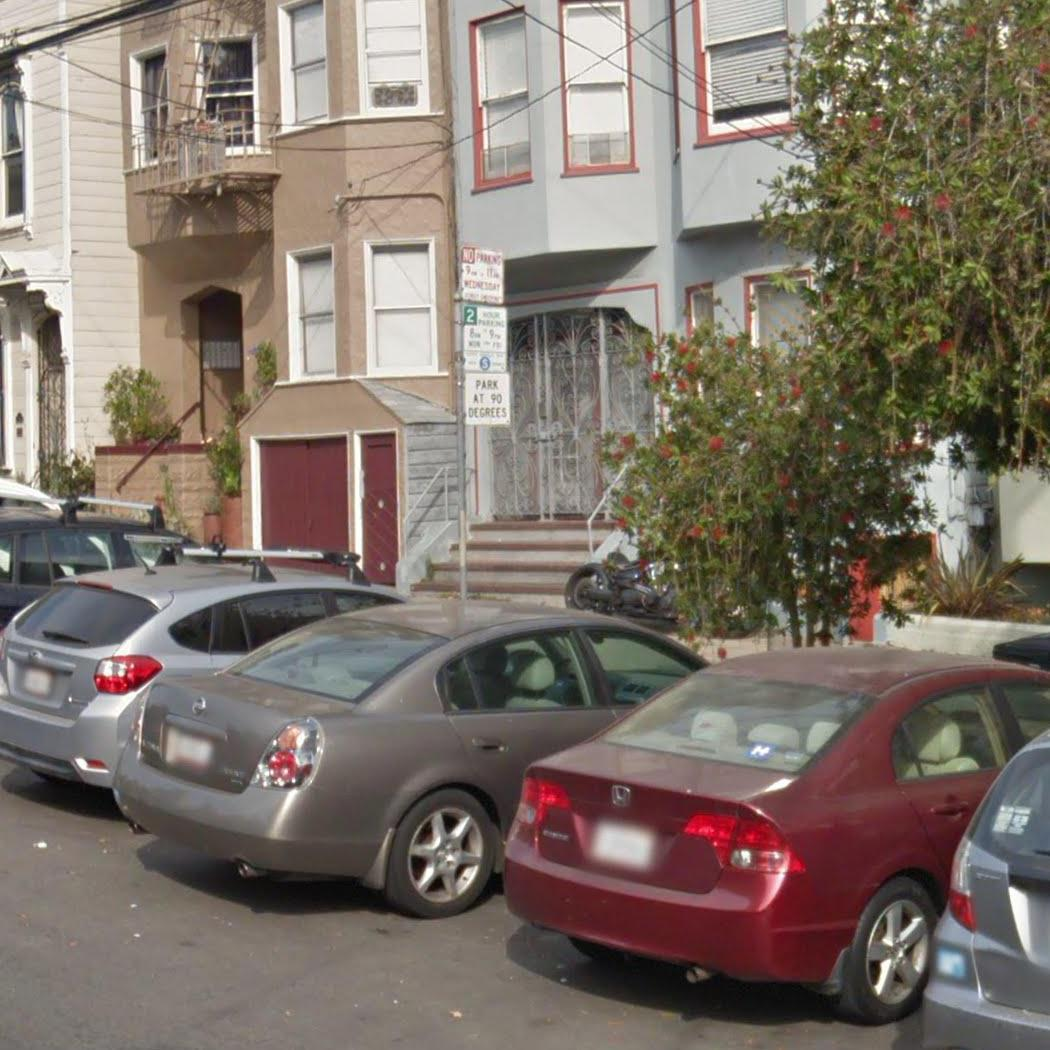2 Hour Parking: (459, 302, 509, 376)
No Parking: (456, 244, 507, 310)
